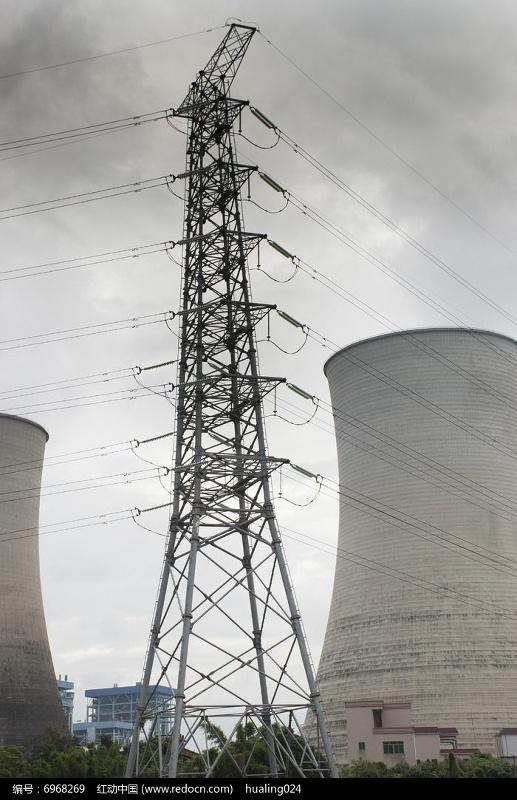power_tower: (122, 15, 329, 778)
